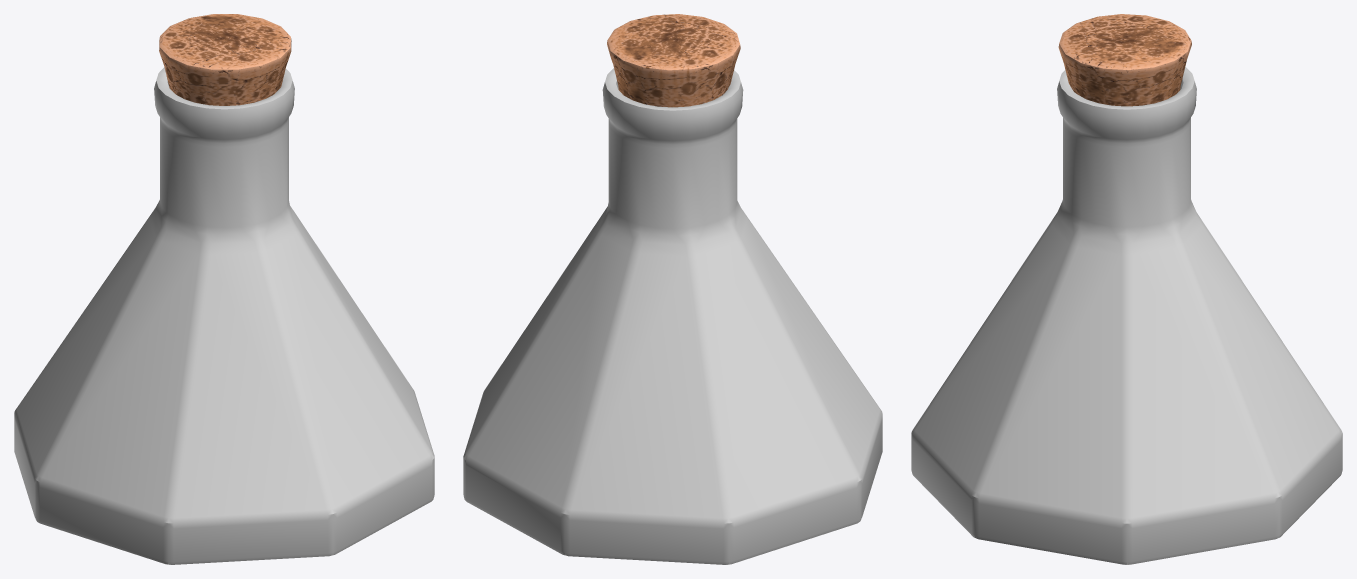
Rendered from Bottle_F.fbx.
The picture shows the model from 3 angles, left to right: view 1: azimuth 30°, elevation 25°; view 2: azimuth 150°, elevation 25°; view 3: azimuth 270°, elevation 25°; orthographic projection.
Parts seen in each view (by area): view 1: Bottle_05; view 2: Bottle_05; view 3: Bottle_05.
Boxes of the visible parts, left/top/right/bottom form: Bottle_05: left=14, top=14, right=434, bottom=564; Bottle_05: left=463, top=14, right=882, bottom=564; Bottle_05: left=911, top=14, right=1342, bottom=564.
Bounding box in the file's own units: 57.38 × 64.29 × 57.38.
